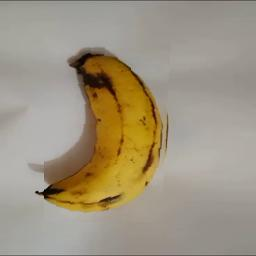Banana Semifresh: (45, 33, 172, 222)
